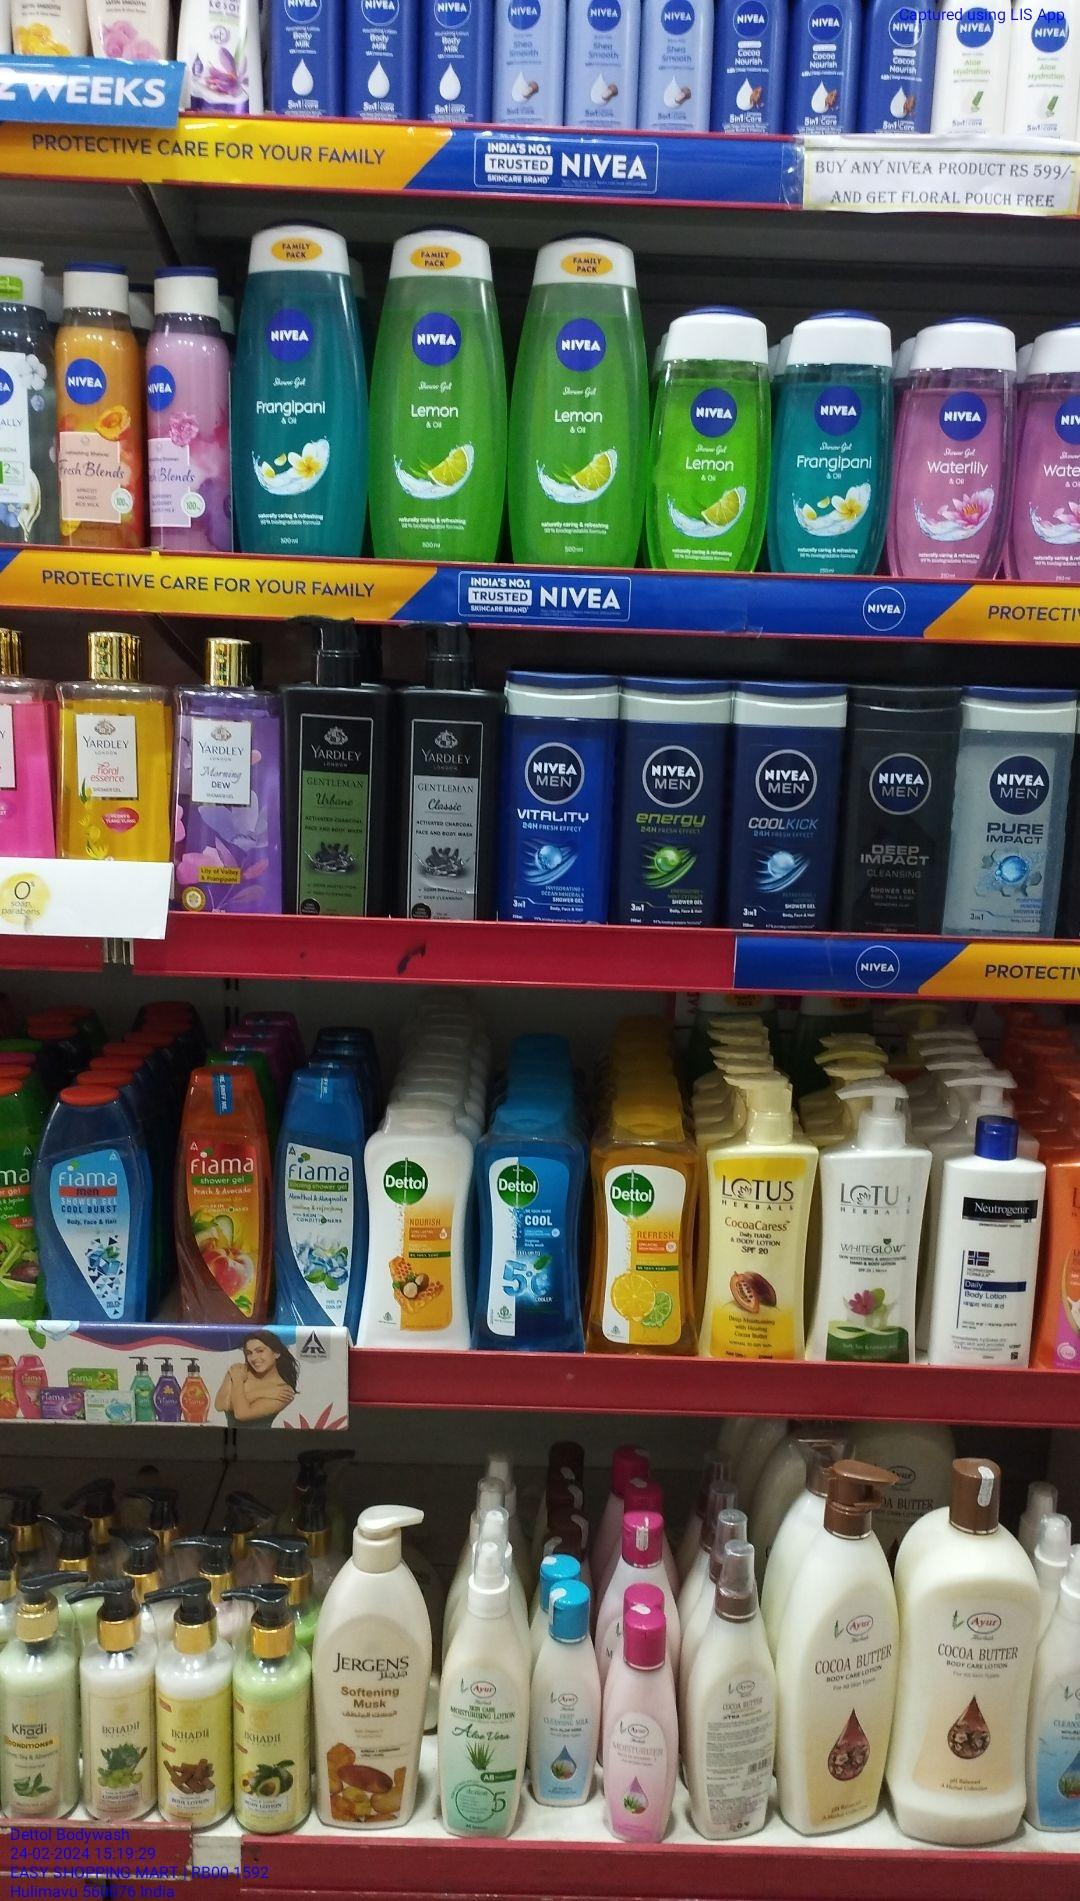Dettol_Bodywash_Cool: (481, 1110, 580, 1350)
Dettol_Bodywash_Refresh: (590, 1101, 693, 1355)
Dettol_Nourish_Body_Wash_250ML: (363, 1106, 473, 1351)
Fiama_Shower_Gel_Peach_and_Avocado_250ML: (180, 1068, 272, 1327)
Nivea_Shower_Gel_Frangipani_and_Oil_250ML: (236, 218, 366, 555)
Nivea_Shower_Gel_Lemon_and_Oil_250ML: (516, 230, 648, 572), (376, 230, 504, 559)
